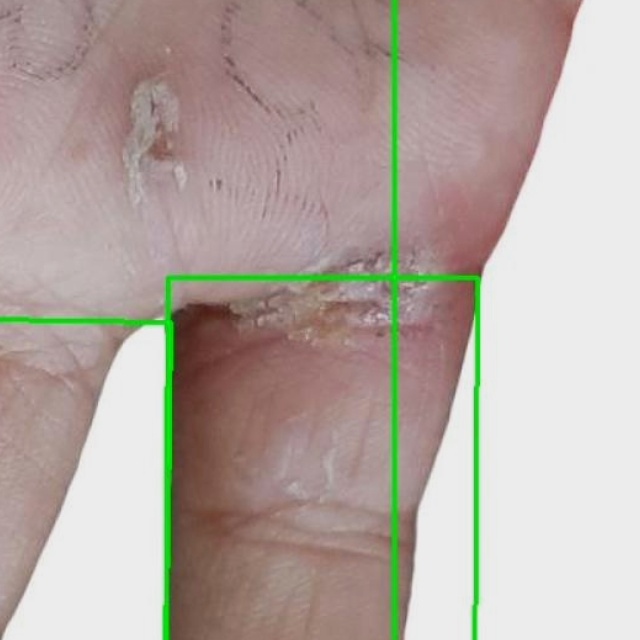Scabies: (394, 0, 639, 639), (166, 276, 477, 639), (0, 318, 171, 639)
